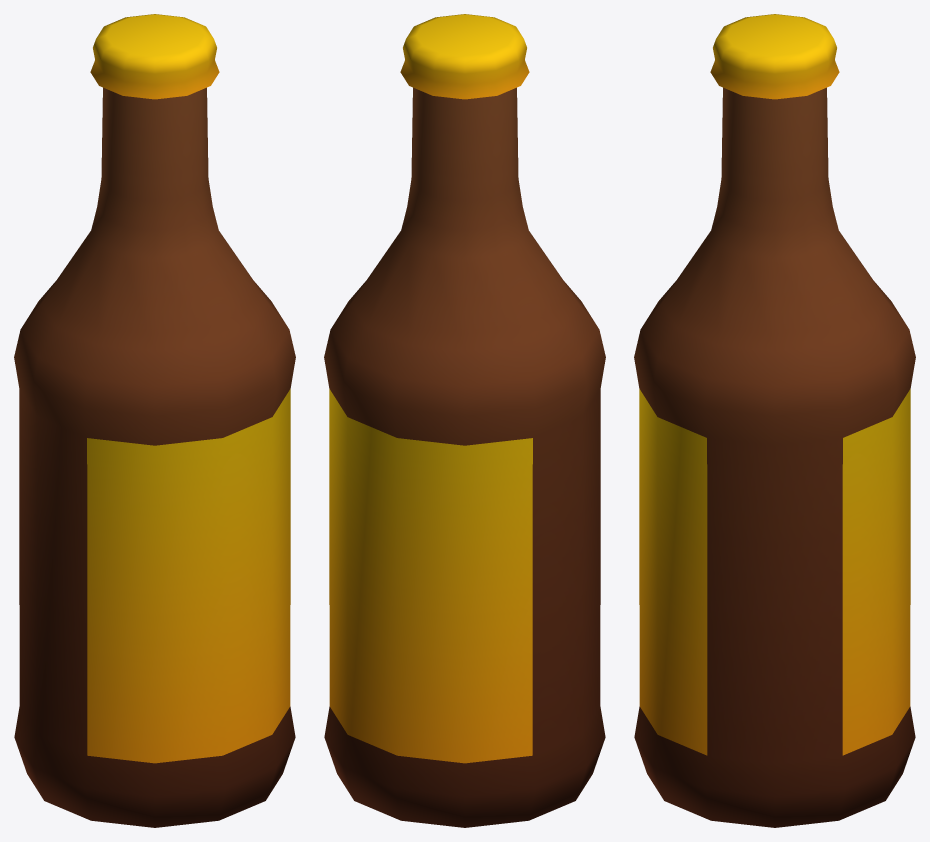
Rendered from Bottle_04.glb.
3 renders of one model, left to right at view 1: azimuth 30°, elevation 25°; view 2: azimuth 150°, elevation 25°; view 3: azimuth 270°, elevation 25°, orthographic.
Visible parts, largest first — view 1: Bottle_04; view 2: Bottle_04; view 3: Bottle_04.
Boxes of the visible parts, x1,y1,x2,y2 form: Bottle_04: (14,14,295,827); Bottle_04: (324,14,605,827); Bottle_04: (634,14,915,827).
Bounding box in the file's own units: 0.2101 × 0.6168 × 0.2101.
Materials: 1 (1 with a texture image).
